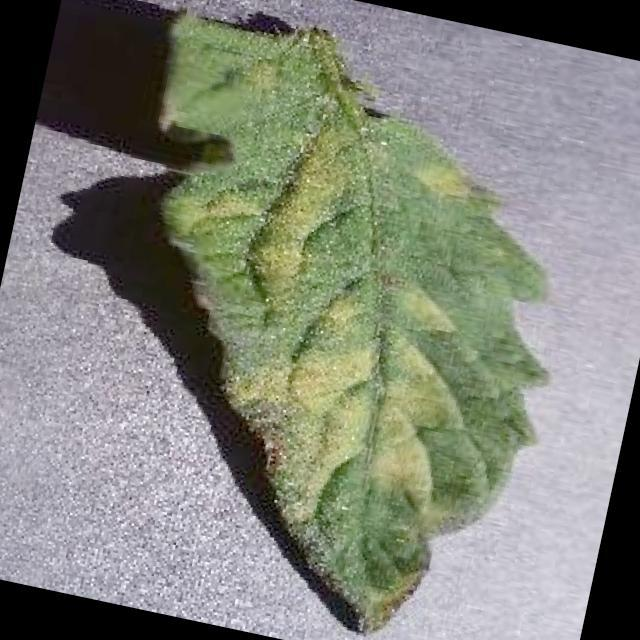Tomato mold leaf: (55, 0, 620, 640)
